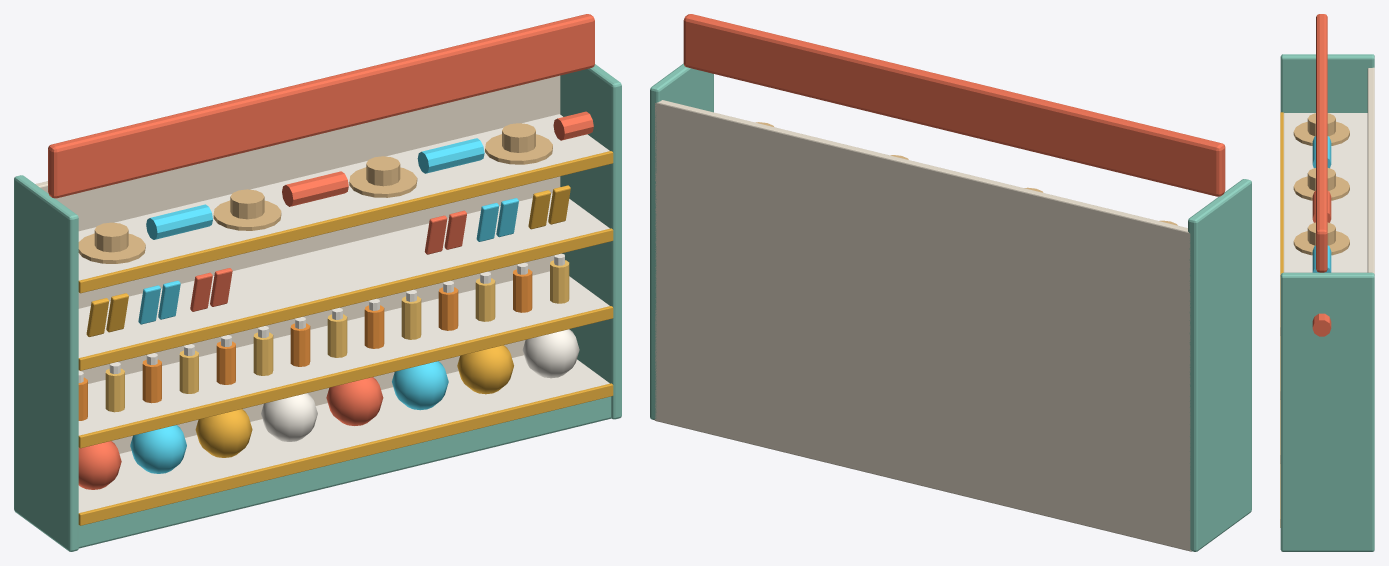
Rendered from store_shelf.glb.
3 renders of one model, left to right at view 1: azimuth 30°, elevation 25°; view 2: azimuth 150°, elevation 25°; view 3: azimuth 270°, elevation 25°, orthographic. The views are drawn at different scales.
Visible parts, largest first — view 1: back, header, side-1, shelf2, shelf1, shelf0, shelf3, kick, side1, lip0, lip2, lip3 (+34 smaller); view 2: back, header, side-1, side1; view 3: side1, shelf3, side-1, header, back, lip3, brim1, brim2, brim0, towel3, crown0, crown2 (+4 smaller).
Part boxes in pixels (box(x1,y1,x2,y2)): back: box(35, 75, 560, 453); header: box(48, 14, 594, 198); side-1: box(14, 175, 78, 551); shelf2: box(78, 193, 609, 357); shelf1: box(78, 271, 609, 435); shelf0: box(78, 355, 609, 512); shelf3: box(78, 114, 609, 280); kick: box(78, 396, 611, 548); side1: box(560, 64, 621, 419); lip0: box(78, 383, 613, 525); lip2: box(78, 228, 613, 370); lip3: box(78, 151, 613, 293); back: box(654, 100, 1191, 551); header: box(683, 14, 1225, 196); side-1: box(1188, 179, 1251, 551); side1: box(650, 63, 713, 419); side1: box(1280, 272, 1374, 551); shelf3: box(1283, 113, 1367, 272); side-1: box(1280, 54, 1374, 112); header: box(1316, 14, 1327, 272); back: box(1367, 67, 1374, 273); lip3: box(1280, 112, 1283, 335); brim1: box(1293, 176, 1349, 200); brim2: box(1293, 231, 1349, 255); brim0: box(1293, 121, 1349, 145); towel3: box(1312, 313, 1331, 336); crown0: box(1307, 113, 1335, 136); crown2: box(1307, 222, 1335, 245).
Size of the model in its own units: 4.62 by 3 by 0.805.
